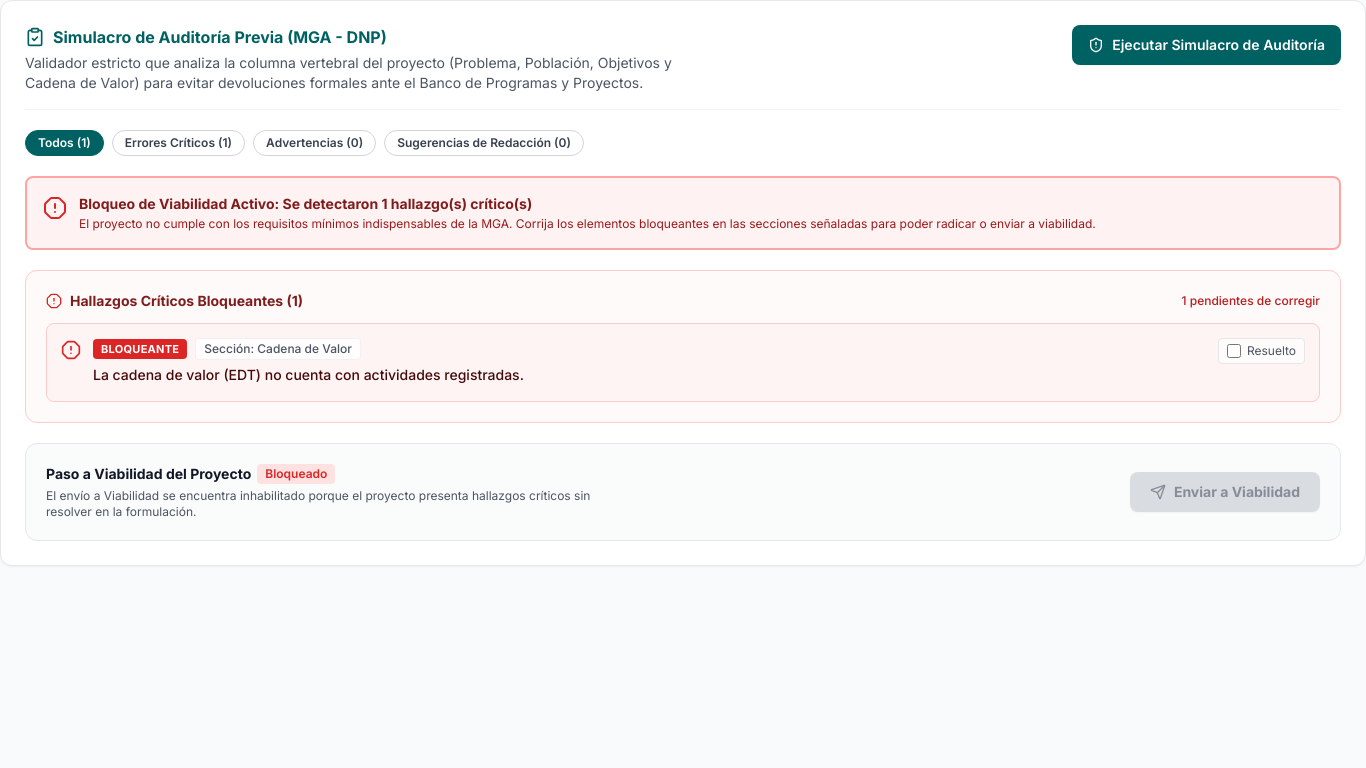
Scenario: FormulationAuditPanel & MGA Strict Audit › FormulationAuditPanel rendering and viability blocking › allows toggling isResolved for user tracking
What coordinates should you click on to do the following:
click the checkbox
I would click on:
 (1234, 351)
Its box is [1227,344,1241,358].
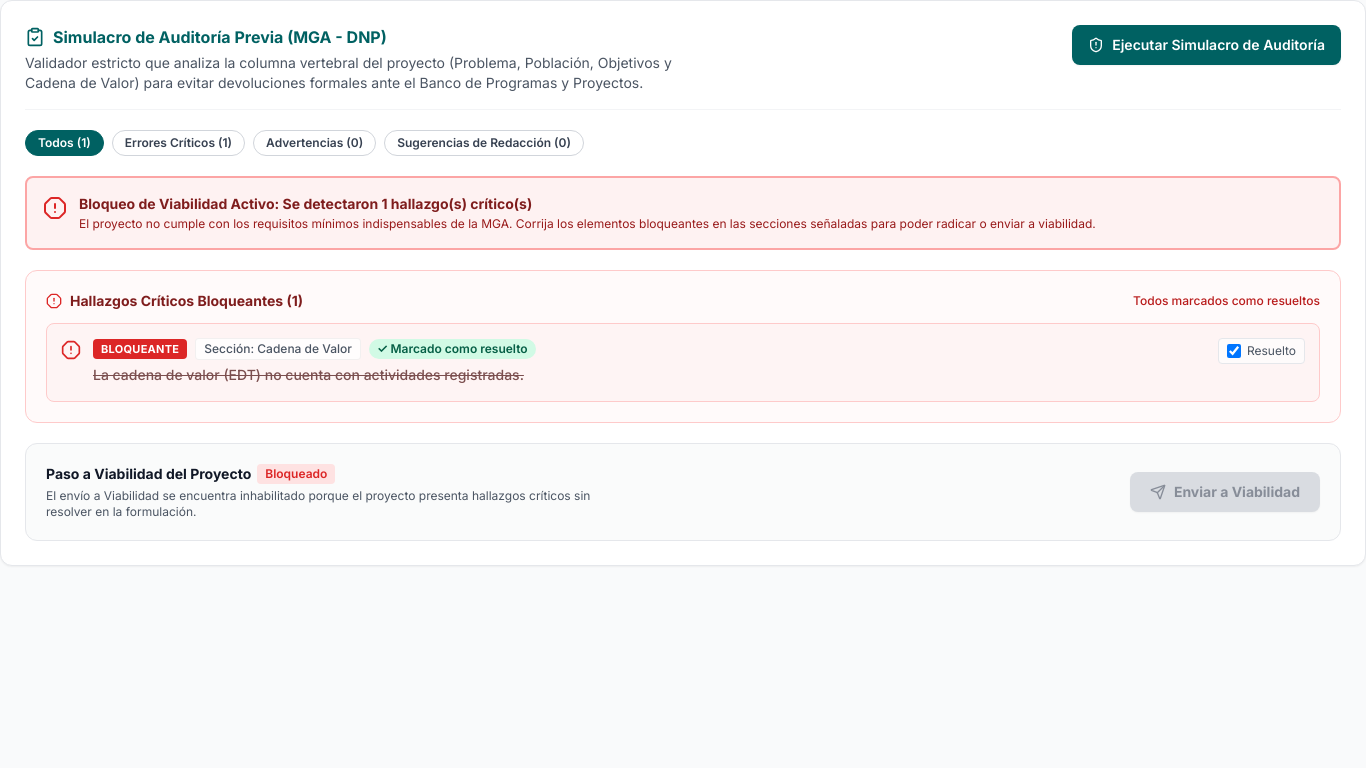
Result: the checkbox is checked at [1227,344,1241,358]
Result: the text "✓ Marcado como resuelto" is shown at [369,339,536,359]
